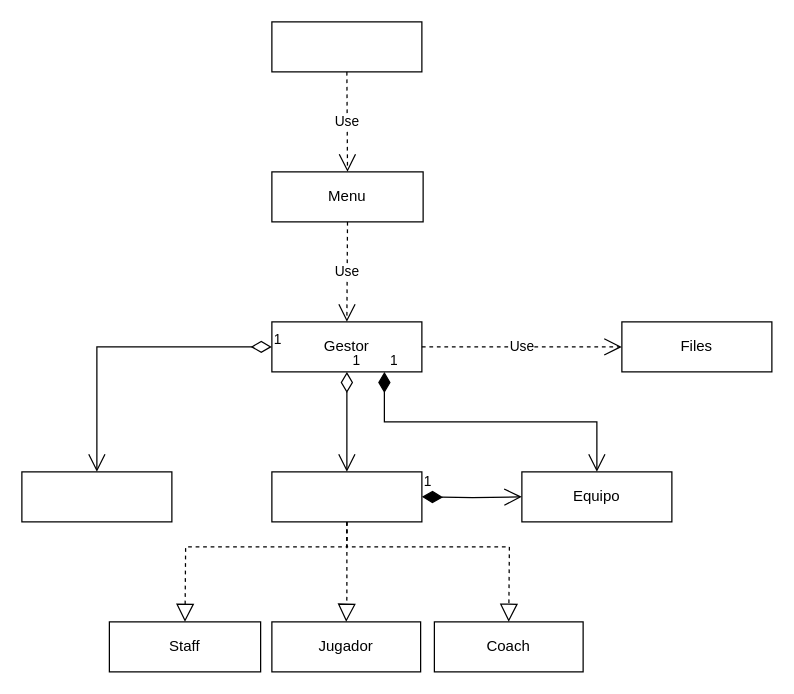
Image size: 794x694. Some labels were removed from this diagram. Each missing label, with the centre of its shape:
"Main" goes at point (346, 46).
"Penalizacion" goes at point (96, 496).
"Person" goes at point (346, 496).
